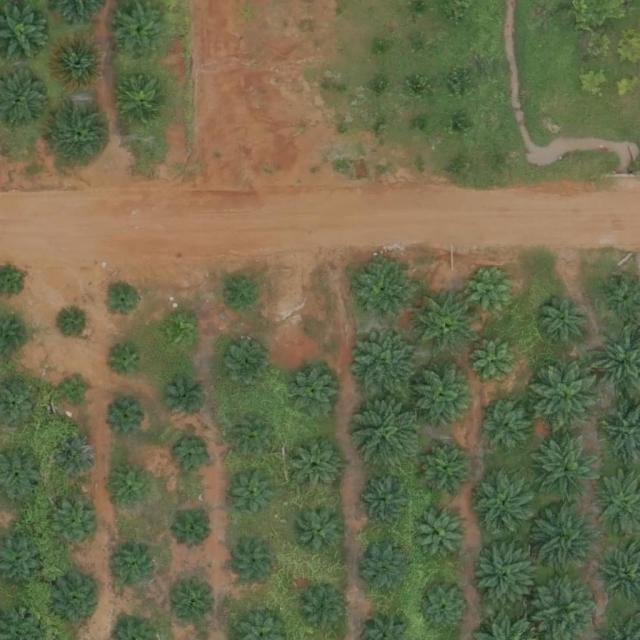Healthy: (535, 434, 606, 505), (353, 331, 423, 402), (357, 398, 427, 469), (532, 360, 603, 430), (532, 502, 602, 573), (477, 542, 540, 605), (51, 103, 113, 166), (354, 260, 416, 323), (415, 292, 477, 355), (475, 471, 538, 533), (415, 367, 477, 429), (113, 6, 168, 61), (118, 76, 173, 131), (538, 295, 592, 350), (291, 368, 338, 416), (423, 447, 470, 495), (420, 512, 467, 560), (487, 405, 534, 453), (366, 477, 413, 524), (364, 548, 411, 595)
Small: (50, 573, 105, 628), (468, 266, 522, 321), (420, 582, 474, 637), (294, 443, 341, 491), (471, 339, 518, 386), (232, 412, 279, 459), (222, 343, 269, 390), (106, 547, 153, 594), (232, 541, 279, 588), (297, 586, 344, 633), (299, 506, 346, 553), (232, 469, 279, 516), (50, 501, 97, 548), (54, 437, 101, 484), (162, 378, 209, 425), (171, 434, 218, 481), (169, 506, 216, 553), (171, 583, 218, 630), (112, 467, 152, 507), (160, 314, 200, 354), (107, 343, 146, 383), (218, 275, 257, 315), (104, 281, 143, 320), (107, 398, 146, 437), (61, 309, 92, 341), (60, 375, 91, 407)
Yellow: (52, 36, 107, 91)
